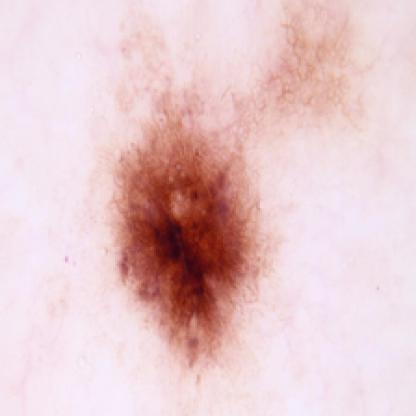benign: (113, 112, 256, 362)
